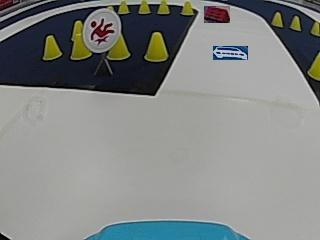cone: (145, 30, 169, 62), (108, 36, 131, 61), (70, 35, 90, 60), (42, 34, 61, 60), (307, 51, 319, 81), (138, 0, 151, 15), (181, 0, 194, 15), (290, 14, 301, 31), (158, 0, 170, 15), (117, 0, 129, 15), (271, 11, 282, 27), (310, 21, 319, 36)
tumble: (87, 12, 118, 47)
